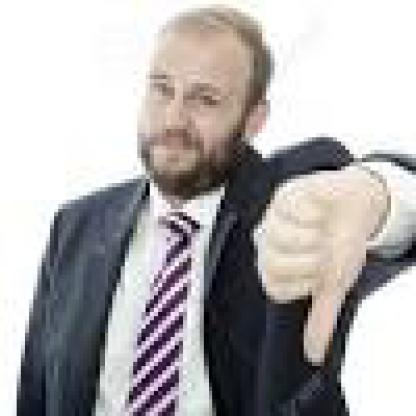Thumbs Down: (270, 175, 344, 361)
